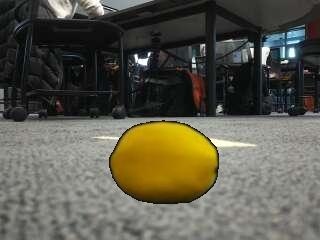lemon: (109, 121, 216, 203)
